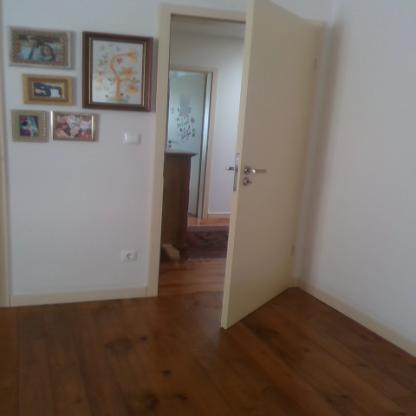semi: (142, 13, 330, 332)
